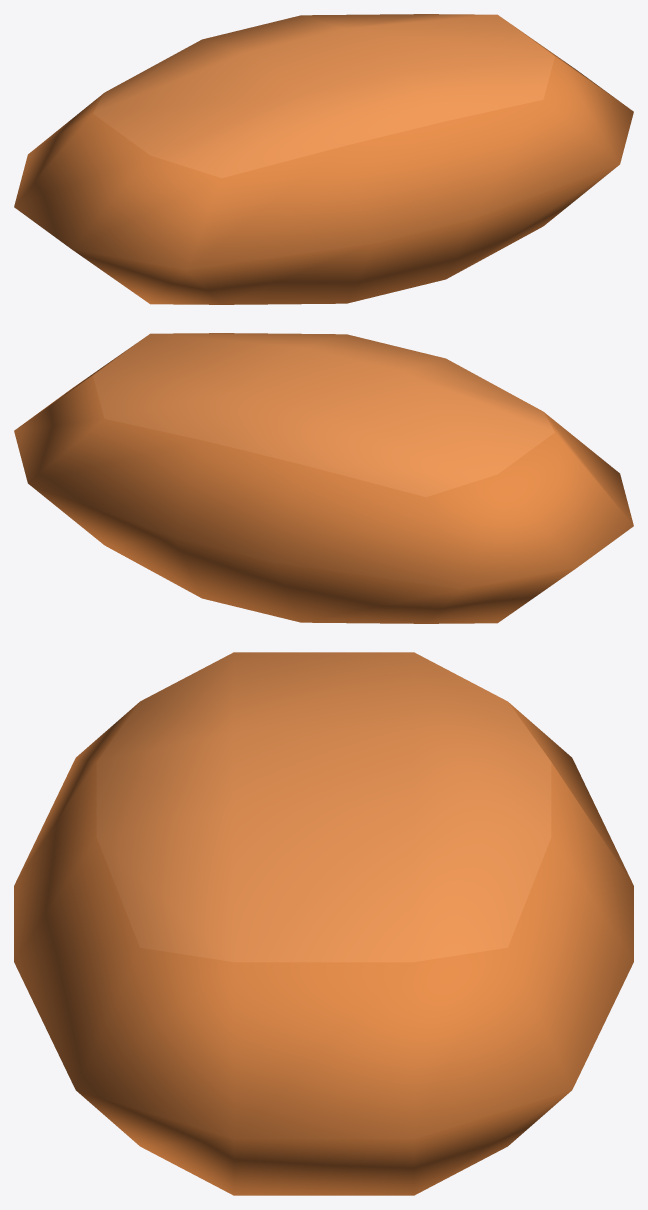
File: sandbag1.fbx
The picture shows the model from 3 angles, top to bottom: view 1: azimuth 30°, elevation 25°; view 2: azimuth 150°, elevation 25°; view 3: azimuth 270°, elevation 25°; orthographic projection. The views are drawn at different scales.
Parts seen in each view (by area): view 1: sandbag1; view 2: sandbag1; view 3: sandbag1.
Boxes of the visible parts, left/top/right/bottom form: sandbag1: left=14, top=14, right=633, bottom=304; sandbag1: left=14, top=333, right=633, bottom=623; sandbag1: left=14, top=652, right=633, bottom=1195.
Bounding box in the file's own units: 243 × 80.43 × 148.
